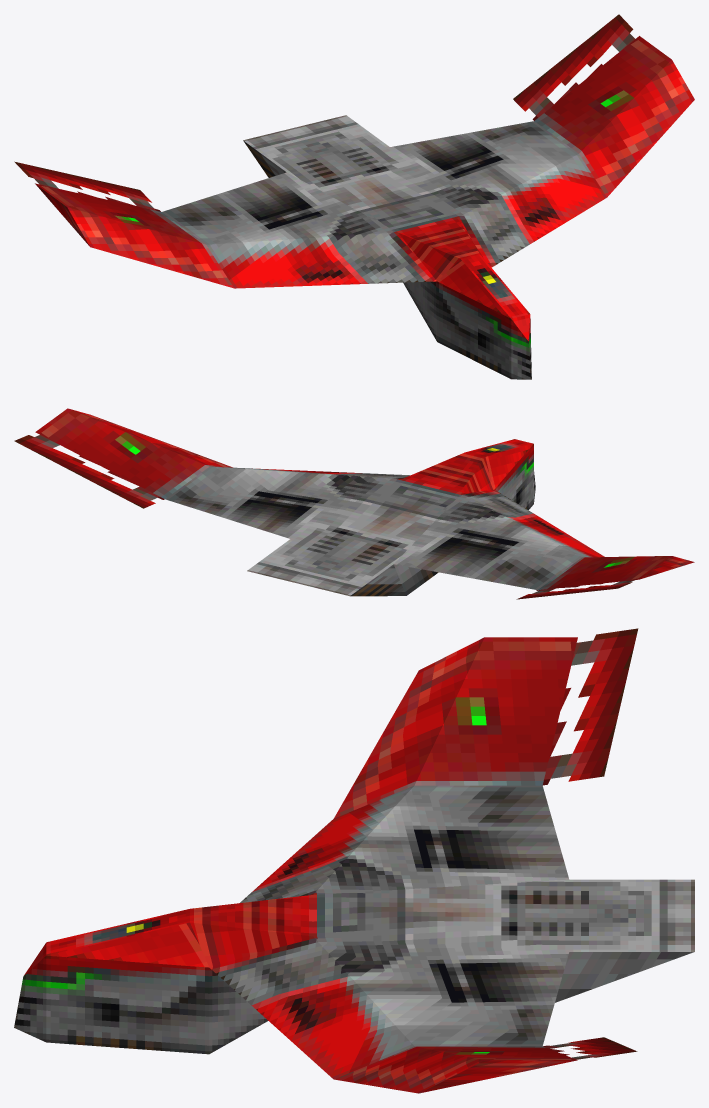
The picture shows the model from 3 angles, top to bottom: view 1: azimuth 30°, elevation 25°; view 2: azimuth 150°, elevation 25°; view 3: azimuth 270°, elevation 25°; orthographic projection. The views are drawn at different scales.
Visible parts, largest first — view 1: Hk_obj_041; view 2: Hk_obj_041; view 3: Hk_obj_041.
Part boxes in pixels (x1,y1,x2,y2): Hk_obj_041: [14, 14, 694, 379]; Hk_obj_041: [14, 408, 694, 599]; Hk_obj_041: [14, 628, 694, 1093].
Bounding box in the file's own units: 3.15 × 0.6836 × 2.14.
Materials: 1 (1 with a texture image).
